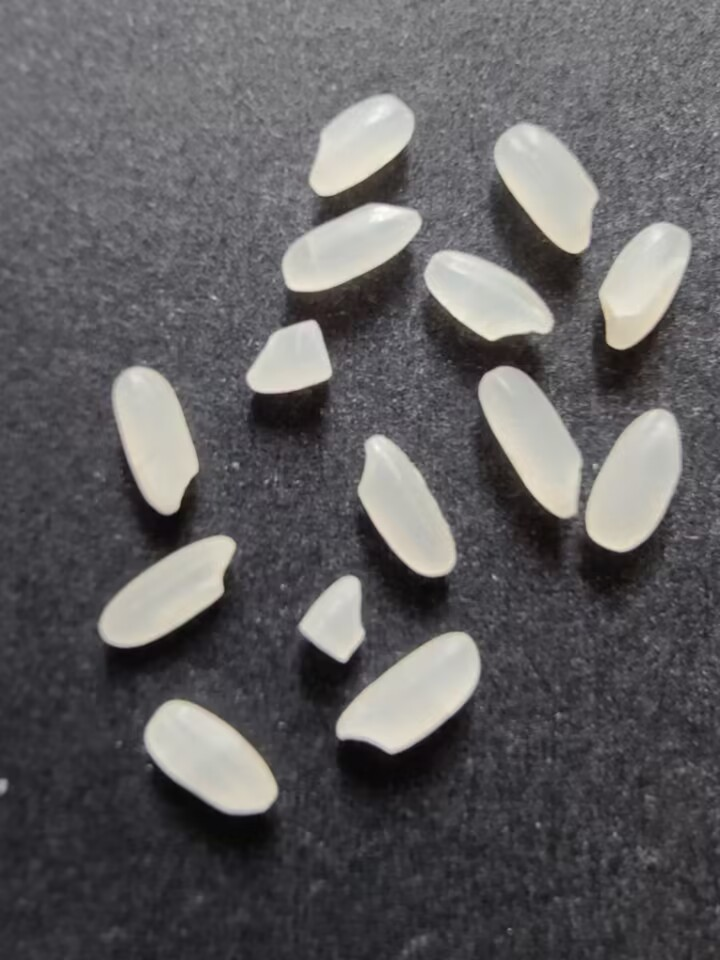broken: (245, 319, 335, 398), (297, 574, 369, 666)
rice: (331, 629, 481, 760), (472, 361, 585, 522), (139, 695, 279, 823), (96, 531, 242, 651), (491, 116, 603, 262), (582, 404, 683, 556), (108, 361, 202, 524), (358, 434, 456, 584), (281, 199, 426, 298), (420, 245, 559, 345), (303, 88, 420, 200), (597, 220, 694, 354)
